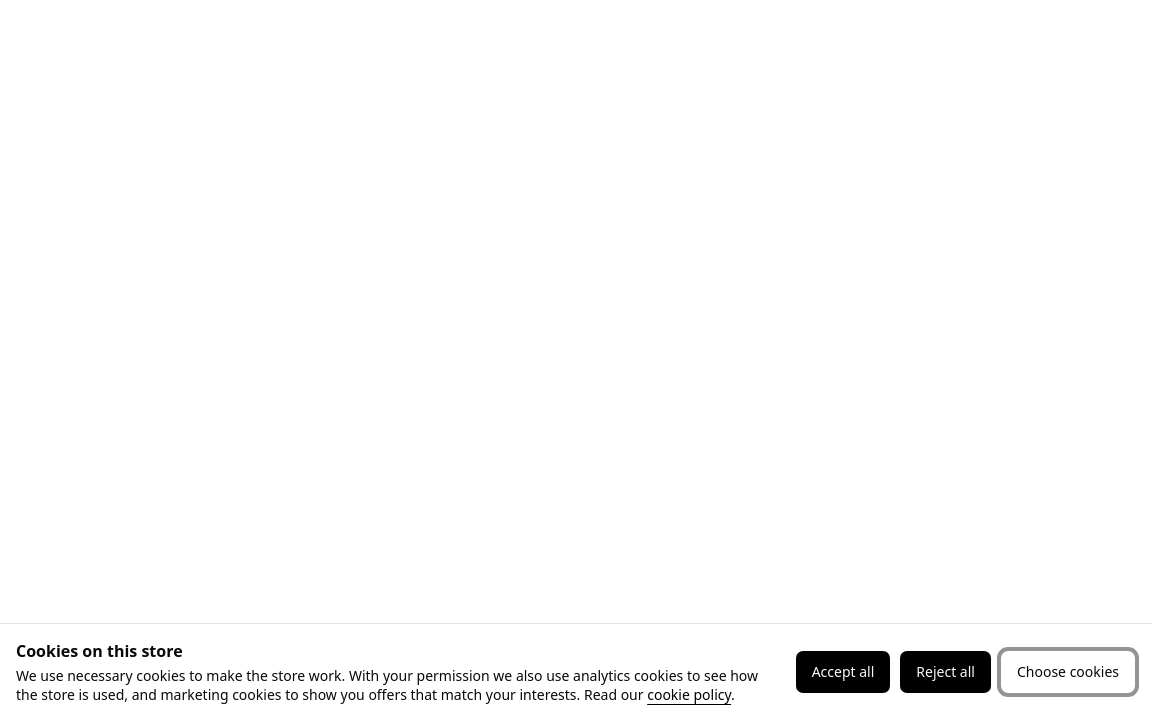
Test: CookieConsent's dialog › opening › closes with the close button, named by the copy, with focus back on choose
Press Enter
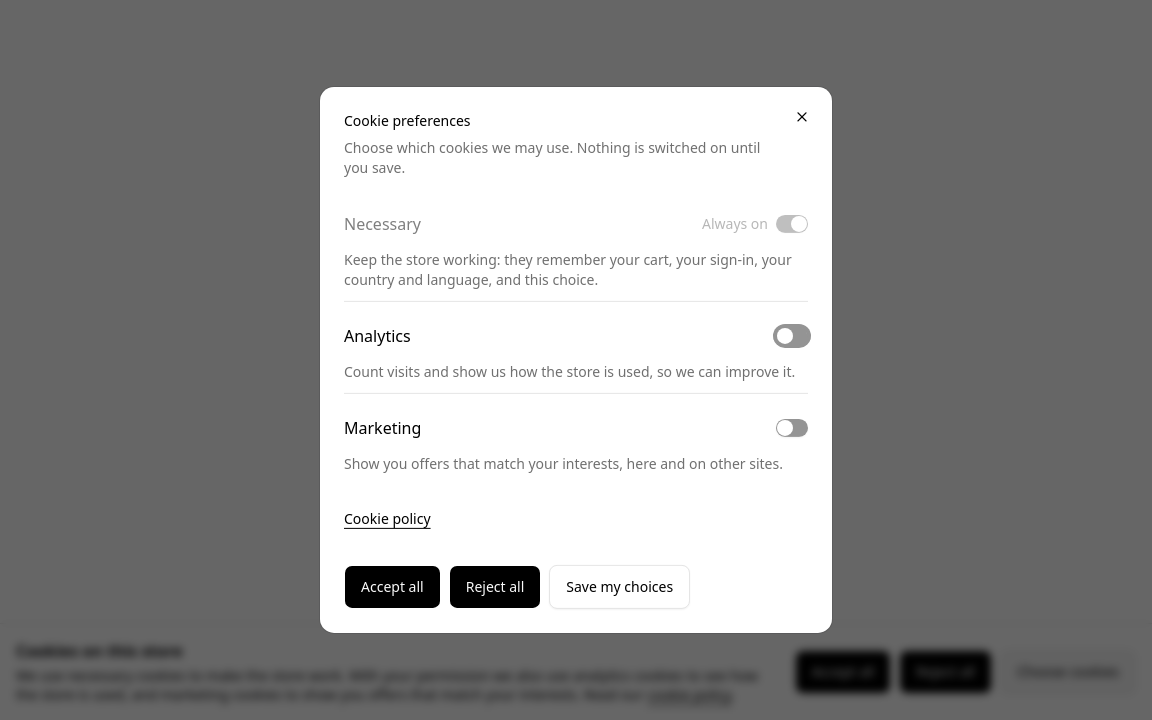
Click the button named "Close" at (802, 117), box x1=780 y1=95 x2=824 y2=139
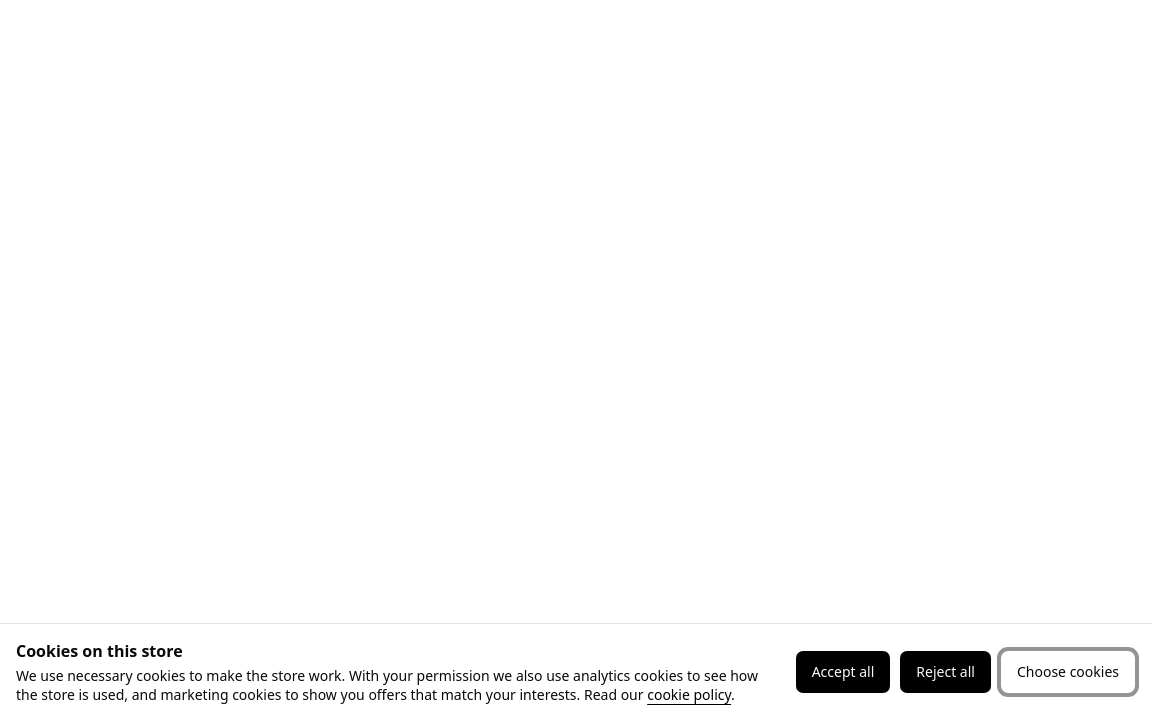
Result: the dialog is gone
